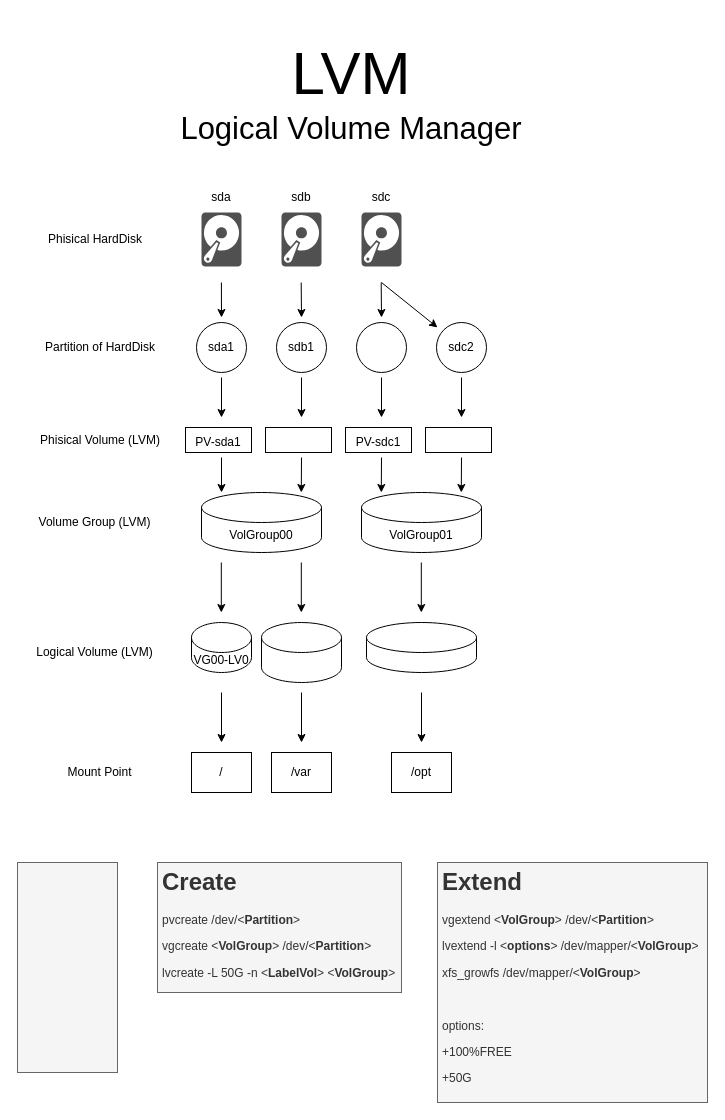
Image size: 725x1120. Some labels were removed from this diagram. Here are the shapes that lost their labels. From the top down, the centre of each, then its label:
At point (381, 347): "sdc1".
At point (298, 439): "PV-sdb1".
At point (458, 439): "PV-sdc2".
At point (301, 652): "VG00-LV1".
At point (421, 647): "VG01-LV0".
At point (67, 967): "Analisis pvscan vgscan lvscan pvdisplay -vv vgdisplay -vv lvdisplay -vv".
